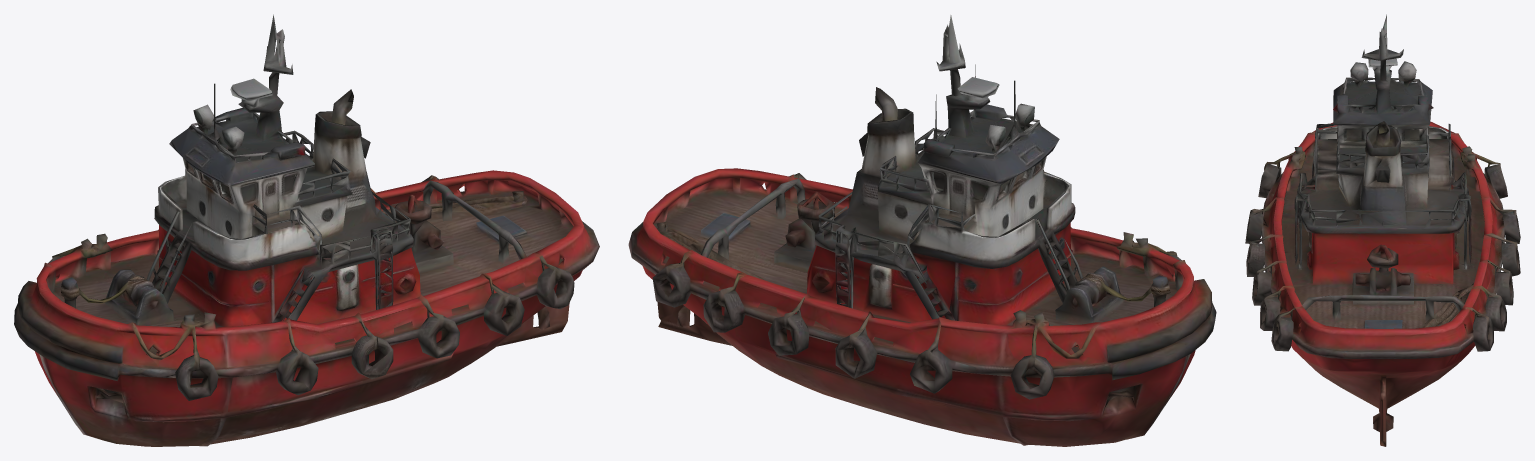
File: boat_tug.glb
3 views of the same model, side by side, from view 1: azimuth 30°, elevation 25°; view 2: azimuth 150°, elevation 25°; view 3: azimuth 270°, elevation 25° (orthographic). The views are drawn at different scales.
Parts seen in each view (by area): view 1: tripo_node_62546c6d-acee-4782-82b0-64775af5c517; view 2: tripo_node_62546c6d-acee-4782-82b0-64775af5c517; view 3: tripo_node_62546c6d-acee-4782-82b0-64775af5c517.
Part boxes in pixels (x1,y1,x2,y2): tripo_node_62546c6d-acee-4782-82b0-64775af5c517: (14, 14, 599, 446); tripo_node_62546c6d-acee-4782-82b0-64775af5c517: (628, 15, 1216, 446); tripo_node_62546c6d-acee-4782-82b0-64775af5c517: (1245, 14, 1520, 446).
Size of the model in its own units: 1 by 0.6877 by 0.5368.
Materials: 1 (1 with a texture image).
